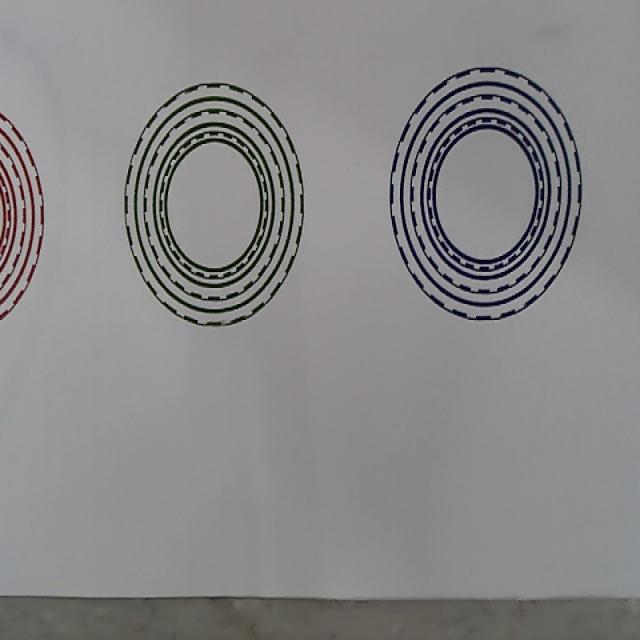b: (389, 65, 583, 321)
g: (123, 83, 306, 328)
